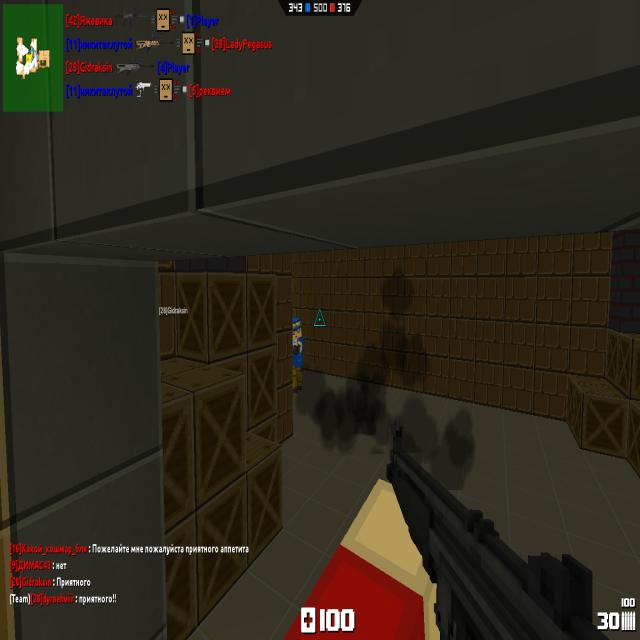enemy: (292, 316, 305, 393)
